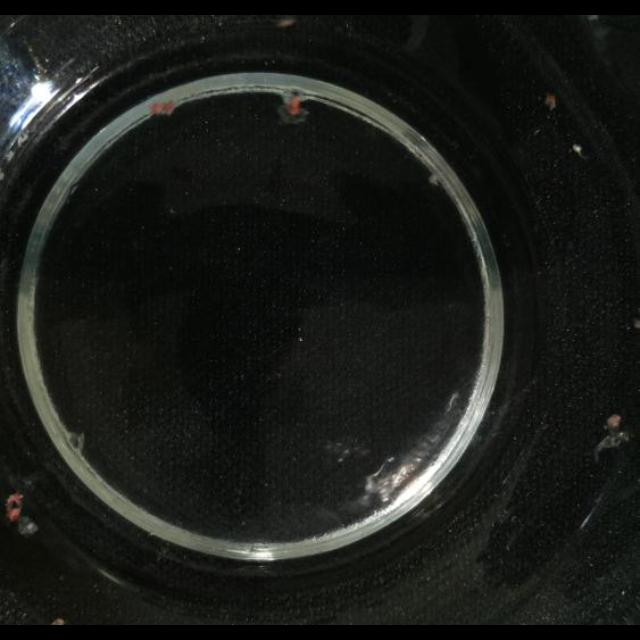Fragment: (595, 405, 633, 459), (1, 492, 41, 540), (280, 86, 314, 125), (151, 94, 177, 116)
microbeads: (545, 94, 557, 110)
